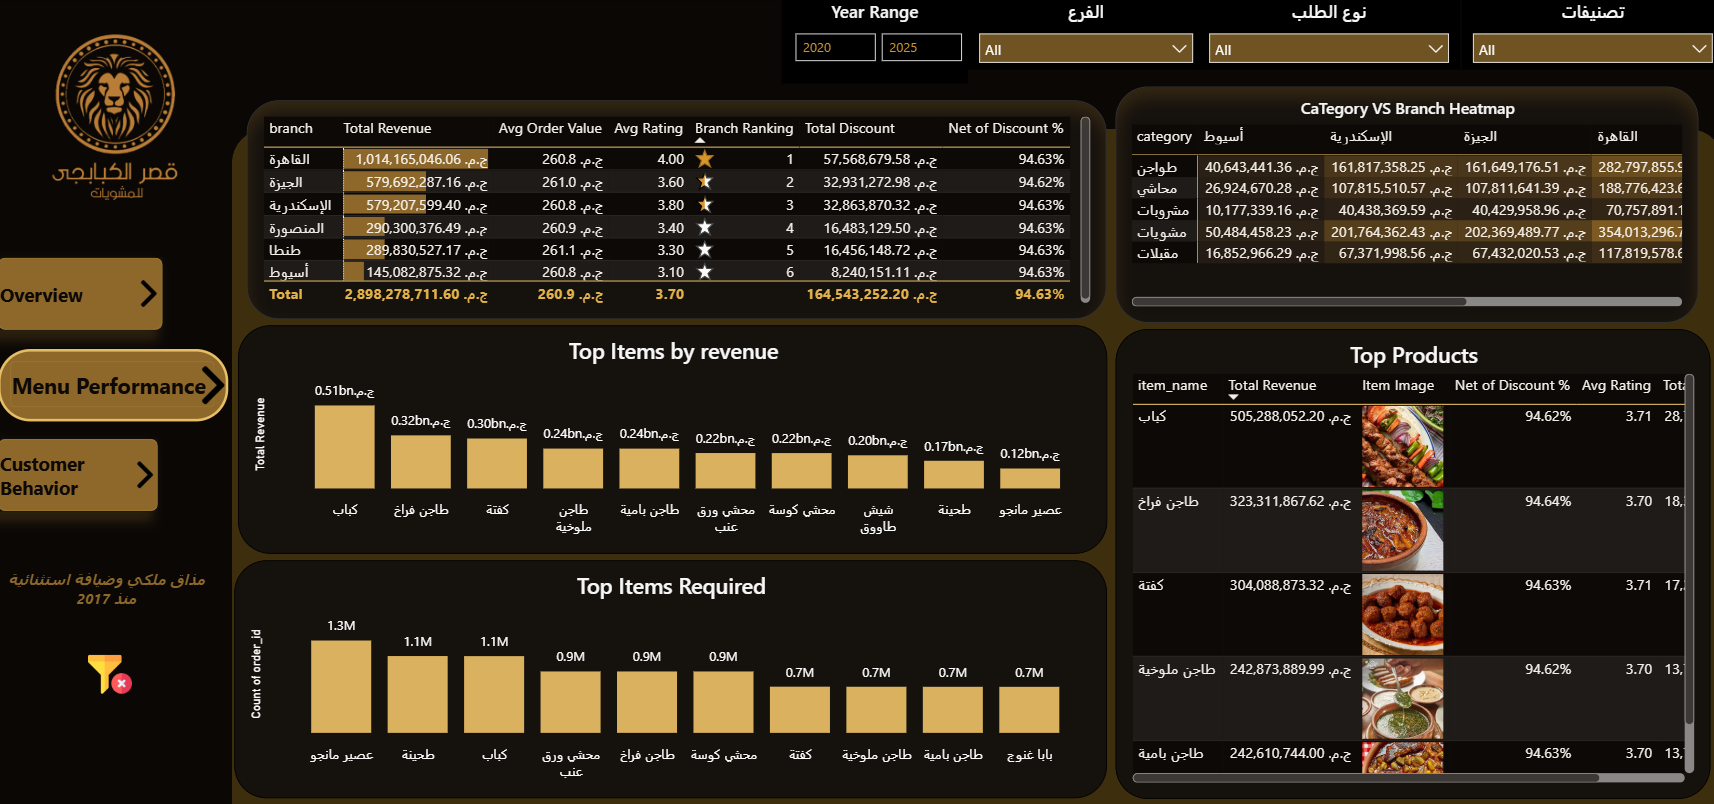

The page's visual inventory and layout, read from the dashboard file:
{"tool":"powerbi","page":{"name":"Menu Performance","canvas":[1600,750],"ordinal":1},"visuals":[{"type":"shape","box":[216.5,119.9,1383.8,630.5],"z":0},{"type":"cardVisual","title":"إجمالي المبيعات      ","fields":{"Data":["Table_Measures.Total Revenue"]},"box":[242.3,78.4,210,140],"z":1000},{"type":"image","box":[0,0,216.5,219.4],"z":2000},{"type":"slicer","title":"نوع الطلب","fields":{"Values":["restaurant_unified.order_type"]},"box":[928,0,243.2,65.3],"z":3000},{"type":"cardVisual","title":"عدد الطلبات    ","fields":{"Data":["Table_Measures.Total Orders"]},"box":[477.7,78.4,210,140],"z":4000},{"type":"cardVisual","title":"متوسط قيمة الفاتورة    ","fields":{"Data":["Table_Measures.Avg Order Value"]},"box":[713.1,78.4,210,140],"z":5000},{"type":"gauge","title":"متوسط التقييم    ","fields":{"MaxValue":["Max(restaurant_unified.rating)"],"Y":["Table_Measures.Avg Rating"]},"box":[948.5,78.4,210,140],"z":6000},{"type":"cardVisual","title":"معدل التغيير الشهري","fields":{"Data":["Table_Measures.MoM Growth %"]},"box":[1183.9,78.4,210,140],"z":7000},{"type":"slicer","title":"Year Range","fields":{"Values":["restaurant_unified.YEAR"]},"box":[486.4,0,222.7,78.1],"z":8000},{"type":"slicer","title":"الفرع","fields":{"Values":["restaurant_unified.branch"]},"box":[709.1,0,218.9,65.3],"z":9000},{"type":"donutChart","fields":{"Category":["restaurant_unified.category"],"Y":["Table_Measures.Total Amount"]},"box":[15.6,375,365.7,295.5],"z":10000},{"type":"tableEx","fields":{"Values":["restaurant_unified.branch","Table_Measures.Total Revenue","Table_Measures.Avg Order Value","Table_Measures.Net of Discount %","Table_Measures.Avg Rating","Table_Measures.Branch Ranking"]},"box":[219.4,500.3,661.2,238.4],"z":11000},{"type":"clusteredColumnChart","title":" Top Items by Quantity","fields":{"Category":["restaurant_unified.item_name"],"Y":["Sum(restaurant_unified.quantity)"]},"box":[908.4,207.7,673.3,262.4],"z":12000},{"type":"clusteredColumnChart","title":" Top Items by revenue","fields":{"Category":["restaurant_unified.item_name"],"Y":["Table_Measures.Total Revenue"]},"box":[200.5,186.7,708.6,302.4],"z":13000},{"type":"tableEx","title":" Top Products","fields":{"Values":["restaurant_unified.item_name","Table_Measures.Total Revenue","Table_Measures.Item Image","Table_Measures.Net of Discount %","Table_Measures.Avg Rating"]},"box":[841.8,311.8,542,437.4],"z":14000}]}

Visuals, with their boxes in screenshot pixels (x1, y1, x2, y2), scaled from the page's 1600x750 canvas onto the 1714x804 screenshot:
shape: l=232, t=129, r=1713, b=803
"إجمالي المبيعات      " cardVisual: l=260, t=84, r=485, b=234
image: l=0, t=0, r=232, b=235
"نوع الطلب" slicer: l=994, t=0, r=1255, b=70
"عدد الطلبات    " cardVisual: l=512, t=84, r=737, b=234
"متوسط قيمة الفاتورة    " cardVisual: l=764, t=84, r=989, b=234
"متوسط التقييم    " gauge: l=1016, t=84, r=1241, b=234
"معدل التغيير الشهري" cardVisual: l=1268, t=84, r=1493, b=234
"Year Range" slicer: l=521, t=0, r=760, b=84
"الفرع" slicer: l=760, t=0, r=994, b=70
donutChart - restaurant_unified.category x Table_Measures.Total Amount: l=17, t=402, r=408, b=719
tableEx - restaurant_unified.branch x Table_Measures.Total Revenue: l=235, t=536, r=943, b=792
" Top Items by Quantity" clusteredColumnChart: l=973, t=223, r=1694, b=504
" Top Items by revenue" clusteredColumnChart: l=215, t=200, r=974, b=524
" Top Products" tableEx: l=902, t=334, r=1482, b=803
